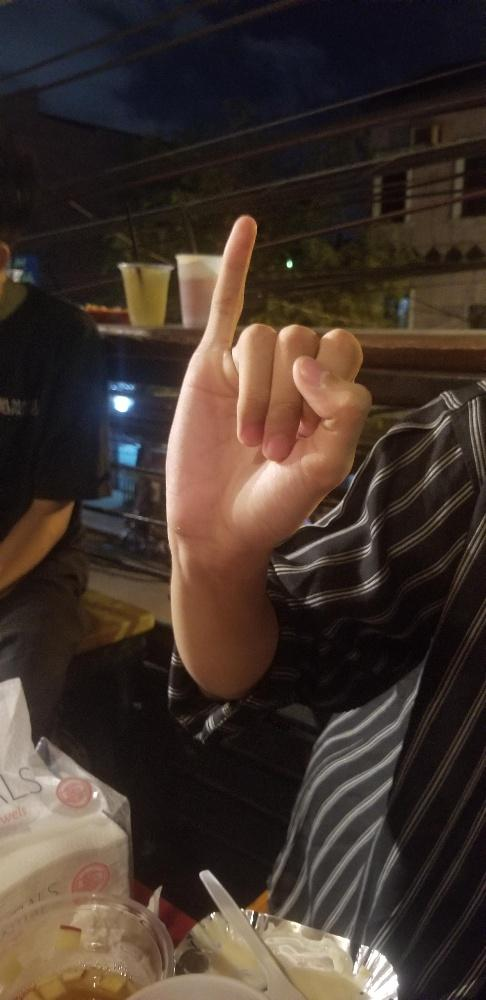i: (163, 212, 365, 560)
